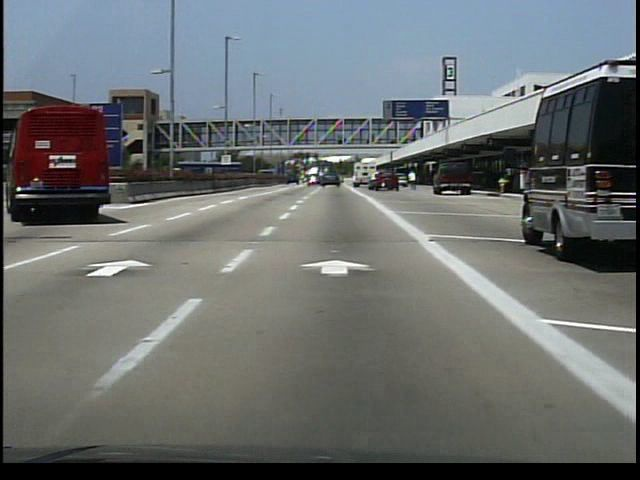person: (504, 164, 517, 198), (407, 169, 421, 191)
